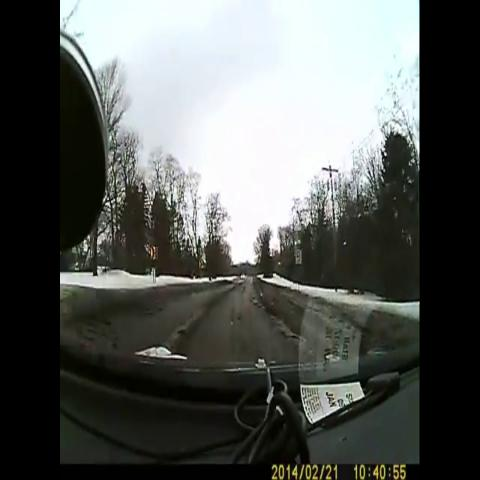pothole: (169, 302, 210, 345)
